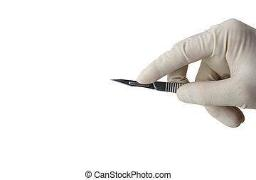scalpel: (109, 79, 189, 95)
